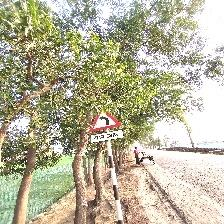Left-Turn: (88, 112, 123, 143)
